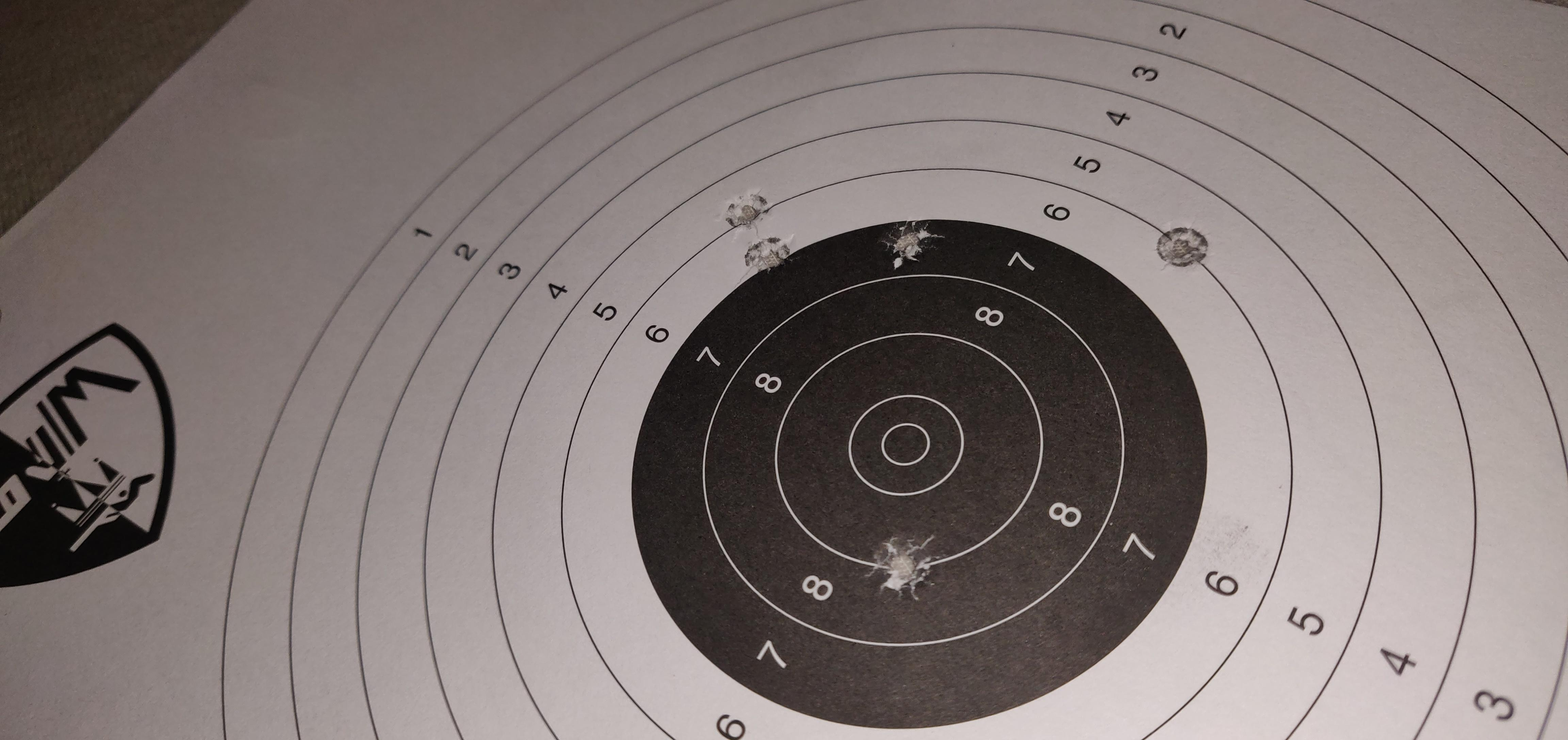hole: (868, 531, 935, 597), (1157, 220, 1212, 274), (880, 213, 933, 269), (722, 191, 779, 235), (741, 233, 795, 276)
